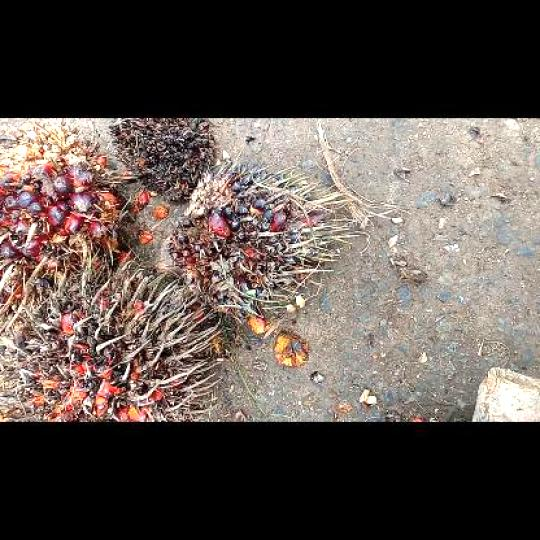masak: (0, 118, 129, 273)
terlalu masak: (0, 260, 226, 420)
